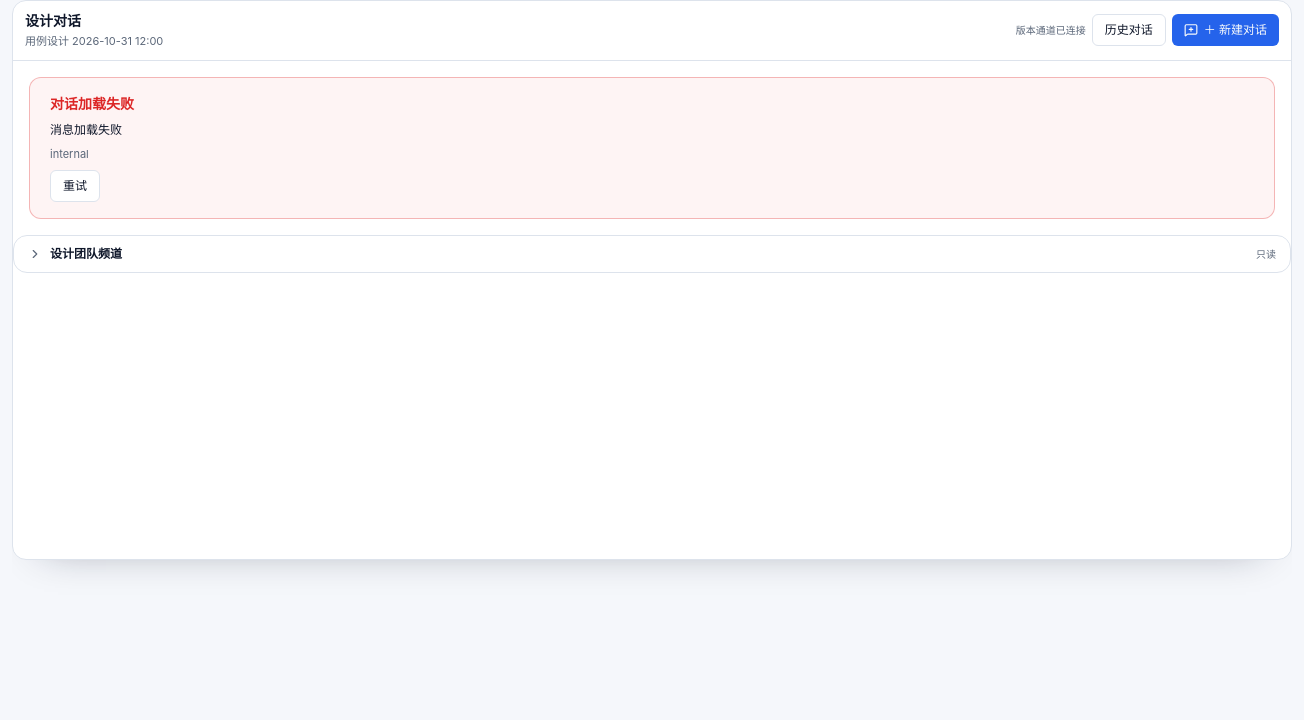
Test case: DesignChat › shows a retryable error when the thread cannot be loaded
Expected: the text "消息加载失败" is shown, [50,122,122,138]
What coordinates should you click on to do the following:
click the button "重试"
I would click on:
 (75, 186)
Its box is [50,170,100,202].
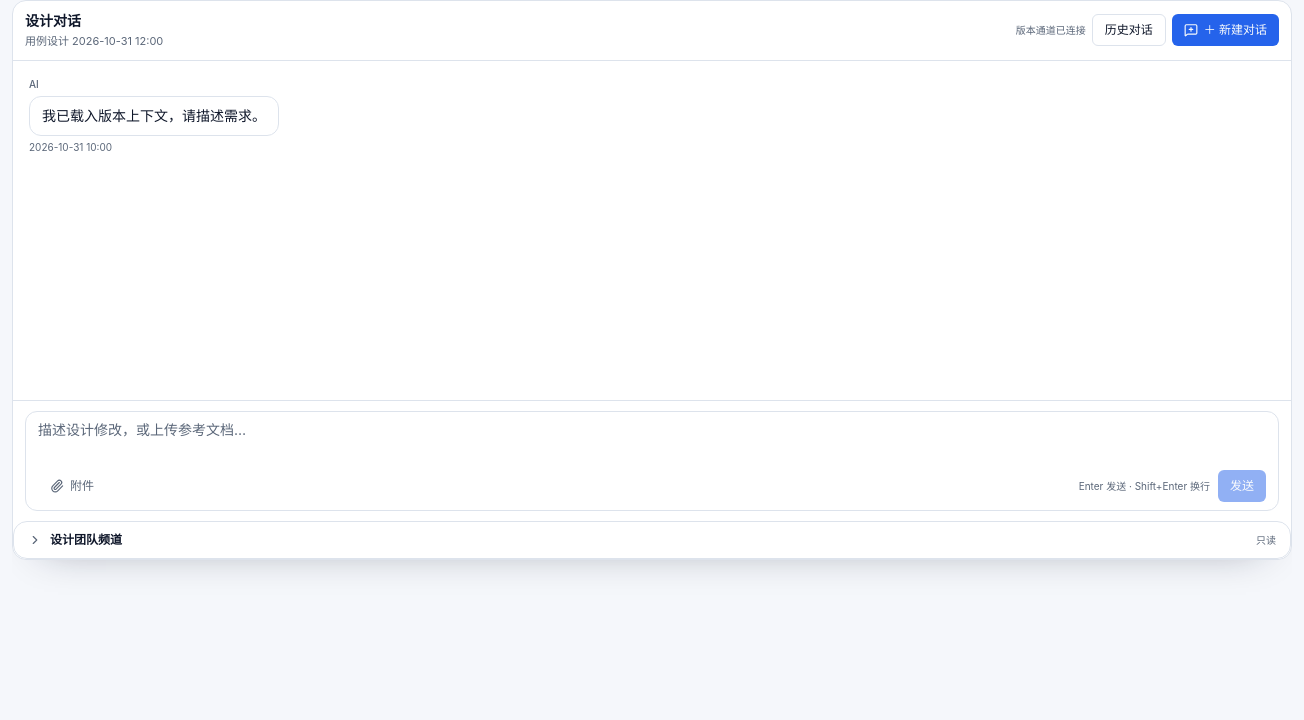
Expected: the text "我已载入版本上下文，请描述需求。" is shown, [42,104,266,127]
